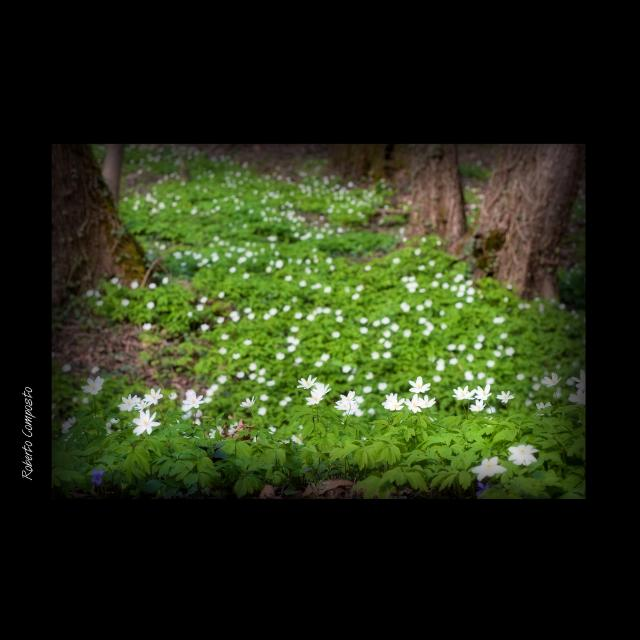Flower: (84, 144, 582, 392), (473, 455, 505, 483), (337, 390, 369, 416), (132, 409, 160, 436), (508, 446, 538, 466), (80, 376, 104, 396), (409, 374, 431, 394), (120, 392, 140, 412), (382, 391, 403, 409), (144, 386, 162, 406), (298, 372, 316, 391), (183, 392, 204, 408), (569, 390, 585, 408), (572, 370, 588, 388), (407, 394, 421, 414), (544, 372, 560, 388), (88, 470, 102, 486), (474, 386, 490, 400), (497, 392, 515, 404), (243, 395, 257, 409), (420, 394, 434, 408), (454, 385, 468, 399), (536, 401, 550, 415), (307, 391, 319, 407), (314, 384, 328, 396), (468, 400, 484, 410), (136, 399, 148, 408), (61, 424, 71, 434), (194, 409, 204, 418), (259, 392, 269, 400), (292, 436, 302, 444), (210, 428, 216, 439), (280, 398, 288, 406), (258, 407, 264, 417), (271, 425, 277, 433), (68, 418, 74, 424), (286, 396, 292, 402)
